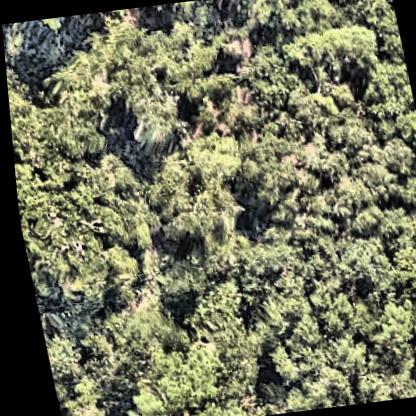tree-top: (257, 312, 368, 410), (143, 134, 244, 234), (124, 343, 230, 416), (281, 16, 387, 80), (111, 71, 184, 148), (365, 291, 416, 399), (325, 228, 396, 296), (152, 251, 211, 324), (226, 156, 287, 216), (84, 236, 139, 293), (53, 375, 100, 416), (38, 332, 77, 381), (244, 296, 289, 335), (374, 138, 414, 178), (188, 40, 224, 74), (174, 79, 205, 110)
